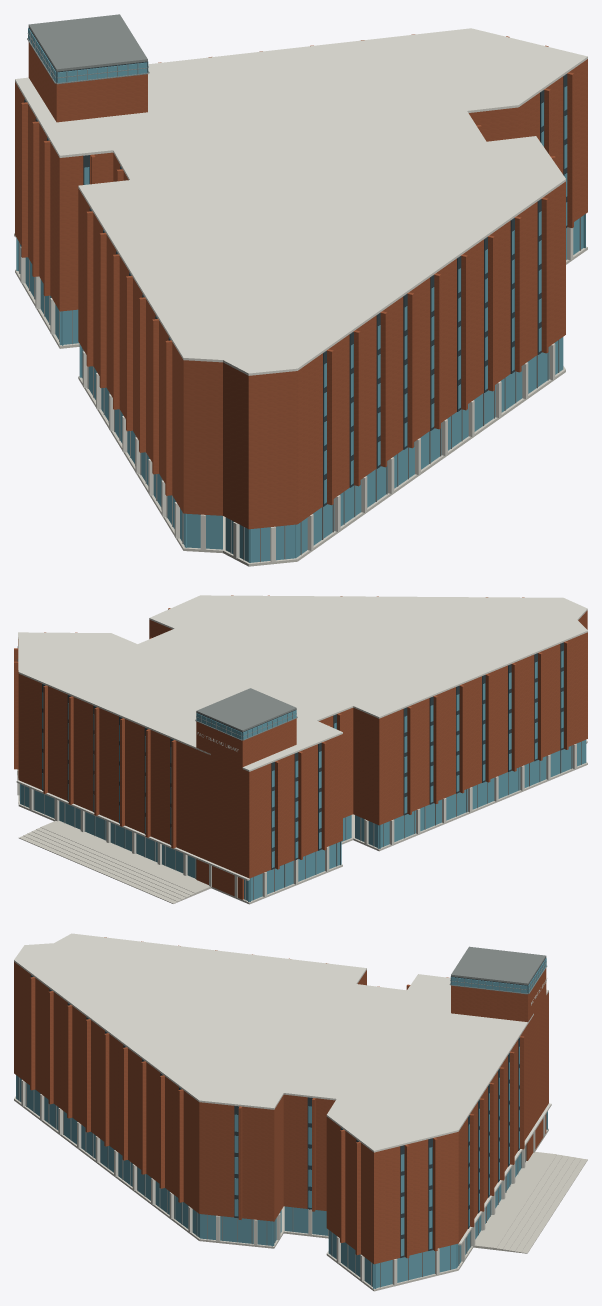
Rendered from library.glb.
The picture shows the model from 3 angles, top to bottom: view 1: azimuth 30°, elevation 25°; view 2: azimuth 150°, elevation 25°; view 3: azimuth 270°, elevation 25°; orthographic projection. The views are drawn at different scales.
Parts seen in each view (by area): view 1: LIB_main_roof, LIB_reading_rooms, DETAIL_baked_REF_LIB_brick, DETAIL_baked_REF_LIB_glass, DETAIL_baked_REF_LIB_concrete, DETAIL_baked_REF_LIB_shadow, LIB_tower_cap, LIB_identity_tower, DETAIL_baked_REF_LIB_metal, LIB_ground_plinth; view 2: LIB_main_roof, LIB_reading_rooms, DETAIL_baked_REF_LIB_glass, DETAIL_baked_REF_LIB_brick, LIB_identity_tower, DETAIL_baked_REF_LIB_shadow, DETAIL_baked_REF_LIB_concrete, LIB_tower_cap, LIB_entrance_step_0, DETAIL_baked_REF_LIB_metal, LIB_ground_plinth, LIB_entrance_fascia (+5 smaller); view 3: LIB_main_roof, LIB_reading_rooms, DETAIL_baked_REF_LIB_brick, DETAIL_baked_REF_LIB_glass, LIB_identity_tower, DETAIL_baked_REF_LIB_concrete, LIB_tower_cap, LIB_entrance_step_0, DETAIL_baked_REF_LIB_shadow, DETAIL_baked_REF_LIB_metal, LIB_ground_plinth, LIB_entrance_step_5 (+5 smaller).
Boxes of the visible parts, <box> form: LIB_main_roof: <box>15,28,587,375</box>; LIB_reading_rooms: <box>15,59,587,529</box>; DETAIL_baked_REF_LIB_brick: <box>21,34,573,505</box>; DETAIL_baked_REF_LIB_glass: <box>16,28,585,562</box>; DETAIL_baked_REF_LIB_concrete: <box>20,227,573,562</box>; DETAIL_baked_REF_LIB_shadow: <box>24,74,567,506</box>; LIB_tower_cap: <box>28,14,147,71</box>; LIB_identity_tower: <box>28,42,147,122</box>; DETAIL_baked_REF_LIB_metal: <box>19,32,580,562</box>; LIB_ground_plinth: <box>15,246,587,566</box>; LIB_main_roof: <box>18,595,587,771</box>; LIB_reading_rooms: <box>18,610,587,878</box>; DETAIL_baked_REF_LIB_glass: <box>20,651,586,901</box>; DETAIL_baked_REF_LIB_brick: <box>14,595,568,869</box>; LIB_identity_tower: <box>196,718,296,899</box>; DETAIL_baked_REF_LIB_shadow: <box>17,642,563,869</box>; DETAIL_baked_REF_LIB_concrete: <box>17,744,576,897</box>; LIB_tower_cap: <box>196,688,296,731</box>; LIB_entrance_step_0: <box>40,821,210,893</box>; DETAIL_baked_REF_LIB_metal: <box>19,712,581,900</box>; LIB_ground_plinth: <box>18,740,587,904</box>; LIB_entrance_fascia: <box>16,780,249,880</box>; LIB_main_roof: <box>14,933,548,1152</box>; LIB_reading_rooms: <box>14,962,548,1264</box>; DETAIL_baked_REF_LIB_brick: <box>30,937,524,1258</box>; DETAIL_baked_REF_LIB_glass: <box>16,958,547,1288</box>; LIB_identity_tower: <box>451,968,546,1160</box>; DETAIL_baked_REF_LIB_concrete: <box>21,1079,545,1285</box>; LIB_tower_cap: <box>451,946,546,985</box>; LIB_entrance_step_0: <box>474,1151,556,1248</box>; DETAIL_baked_REF_LIB_shadow: <box>30,975,519,1257</box>; DETAIL_baked_REF_LIB_metal: <box>18,961,547,1287</box>; LIB_ground_plinth: <box>14,1096,548,1291</box>; LIB_entrance_step_5: <box>473,1158,587,1253</box>.
Size of the model in its own units: 77.23 by 29.68 by 86.14.
6 materials, 1 textured.
